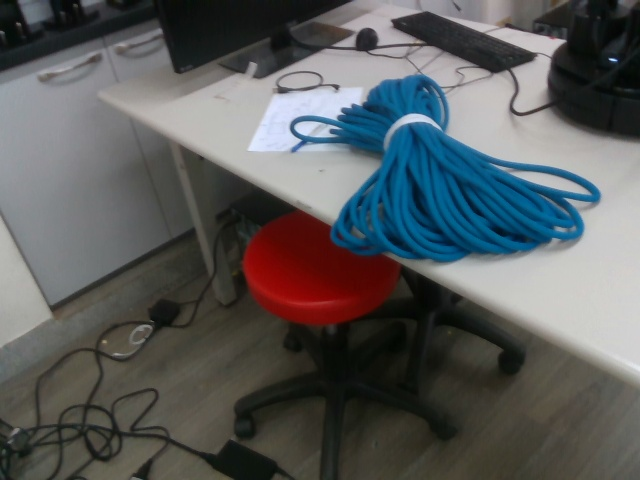rope: (285, 70, 610, 264)
